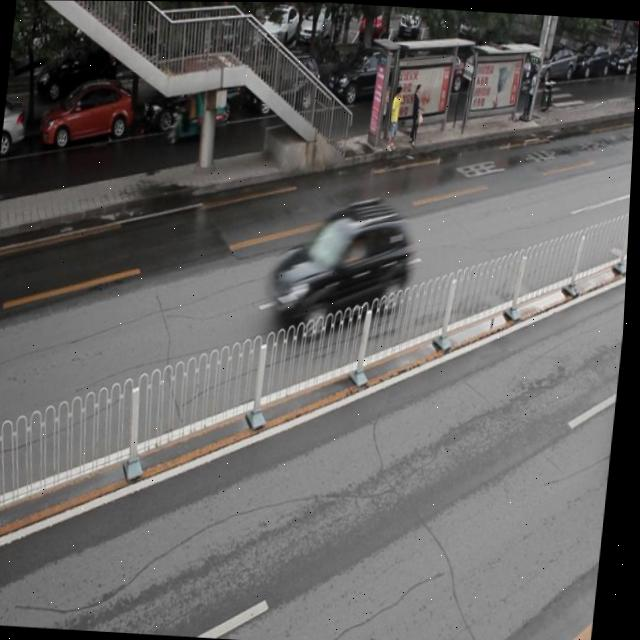car: (266, 198, 417, 344), (38, 76, 137, 153), (142, 67, 243, 135), (248, 50, 323, 117), (330, 43, 406, 106), (2, 96, 29, 159)
